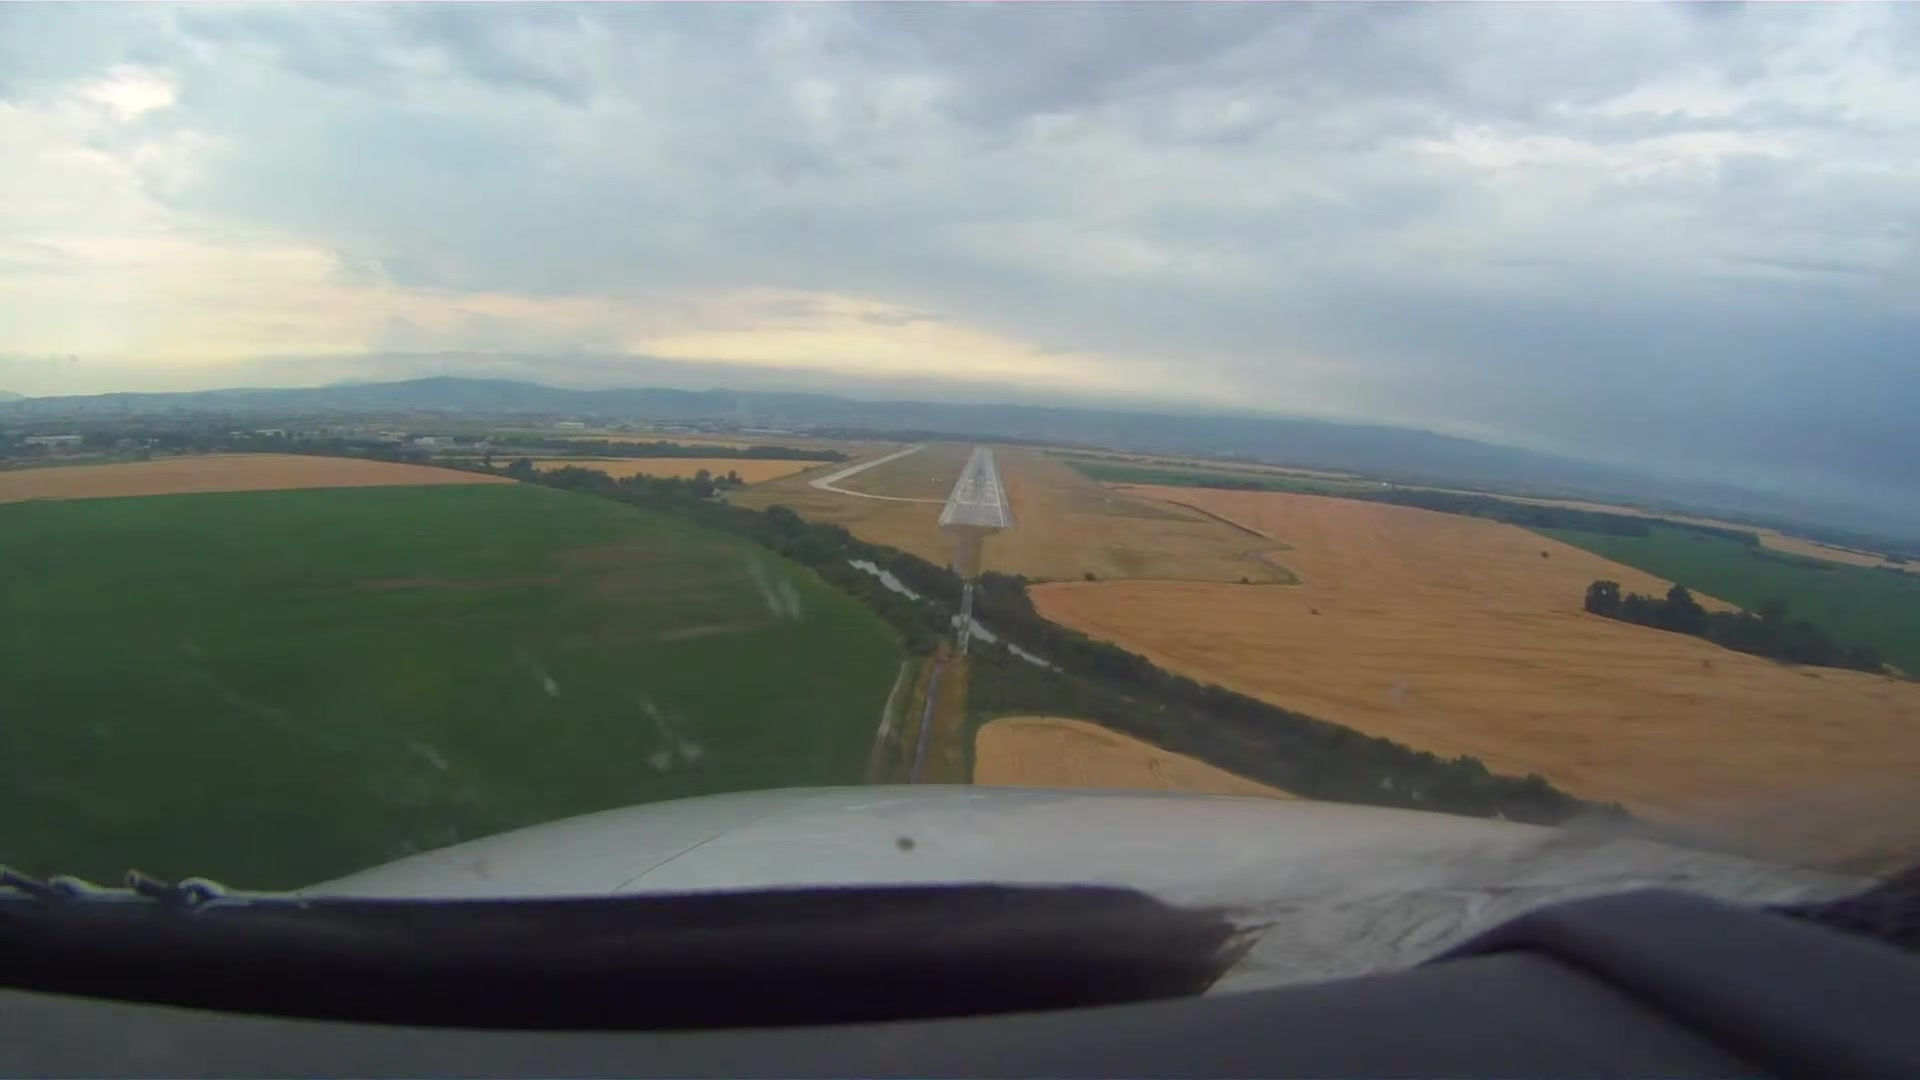entrance: (955, 498, 1000, 508)
runway: (939, 448, 1007, 527)
